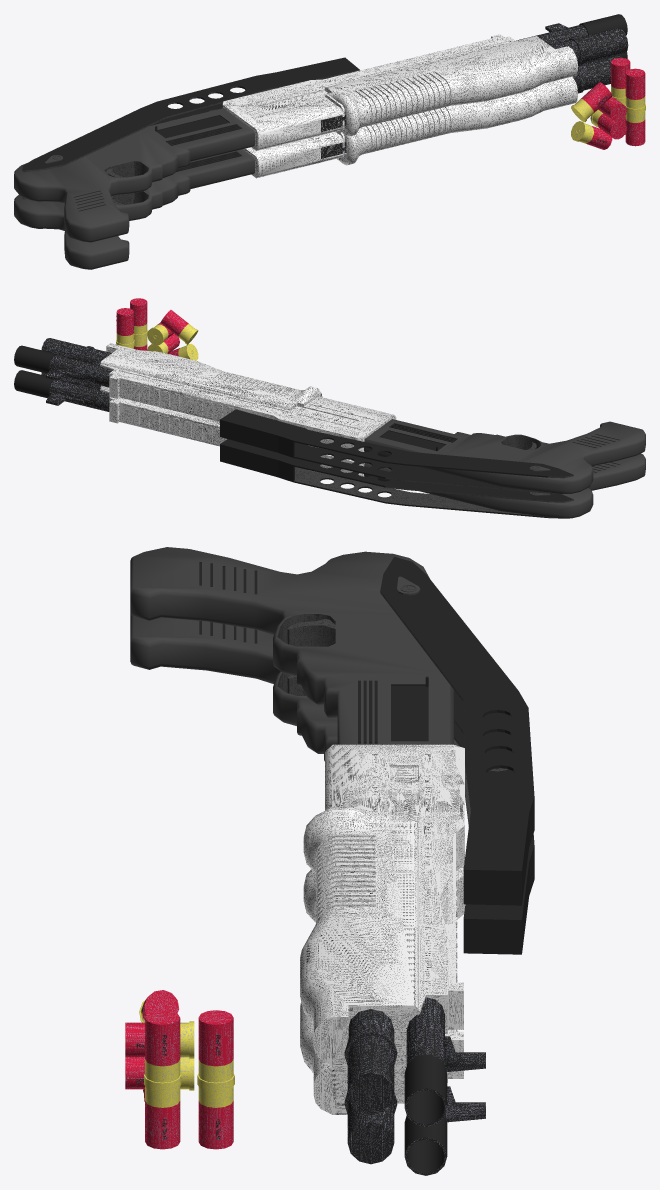
3 renders of one model, top to bottom at view 1: azimuth 30°, elevation 25°; view 2: azimuth 150°, elevation 25°; view 3: azimuth 270°, elevation 25°, orthographic. The views are drawn at different scales.
Parts seen in each view (by area): view 1: spas_12 (×11), balon (×6); view 2: spas_12 (×14), balon (×3); view 3: spas_12 (×13), balon (×4).
Boxes of the visible parts, bbox=[...] form: spas_12 (×11): bbox=[14, 14, 628, 269]; balon (×6): bbox=[581, 58, 645, 146]; spas_12 (×14): bbox=[14, 338, 645, 518]; balon (×3): bbox=[116, 298, 188, 336]; spas_12 (×13): bbox=[130, 547, 534, 1173]; balon (×4): bbox=[145, 1010, 233, 1149].
Size of what is drawn, in the model's own units: 315 by 99.45 by 33.4.
